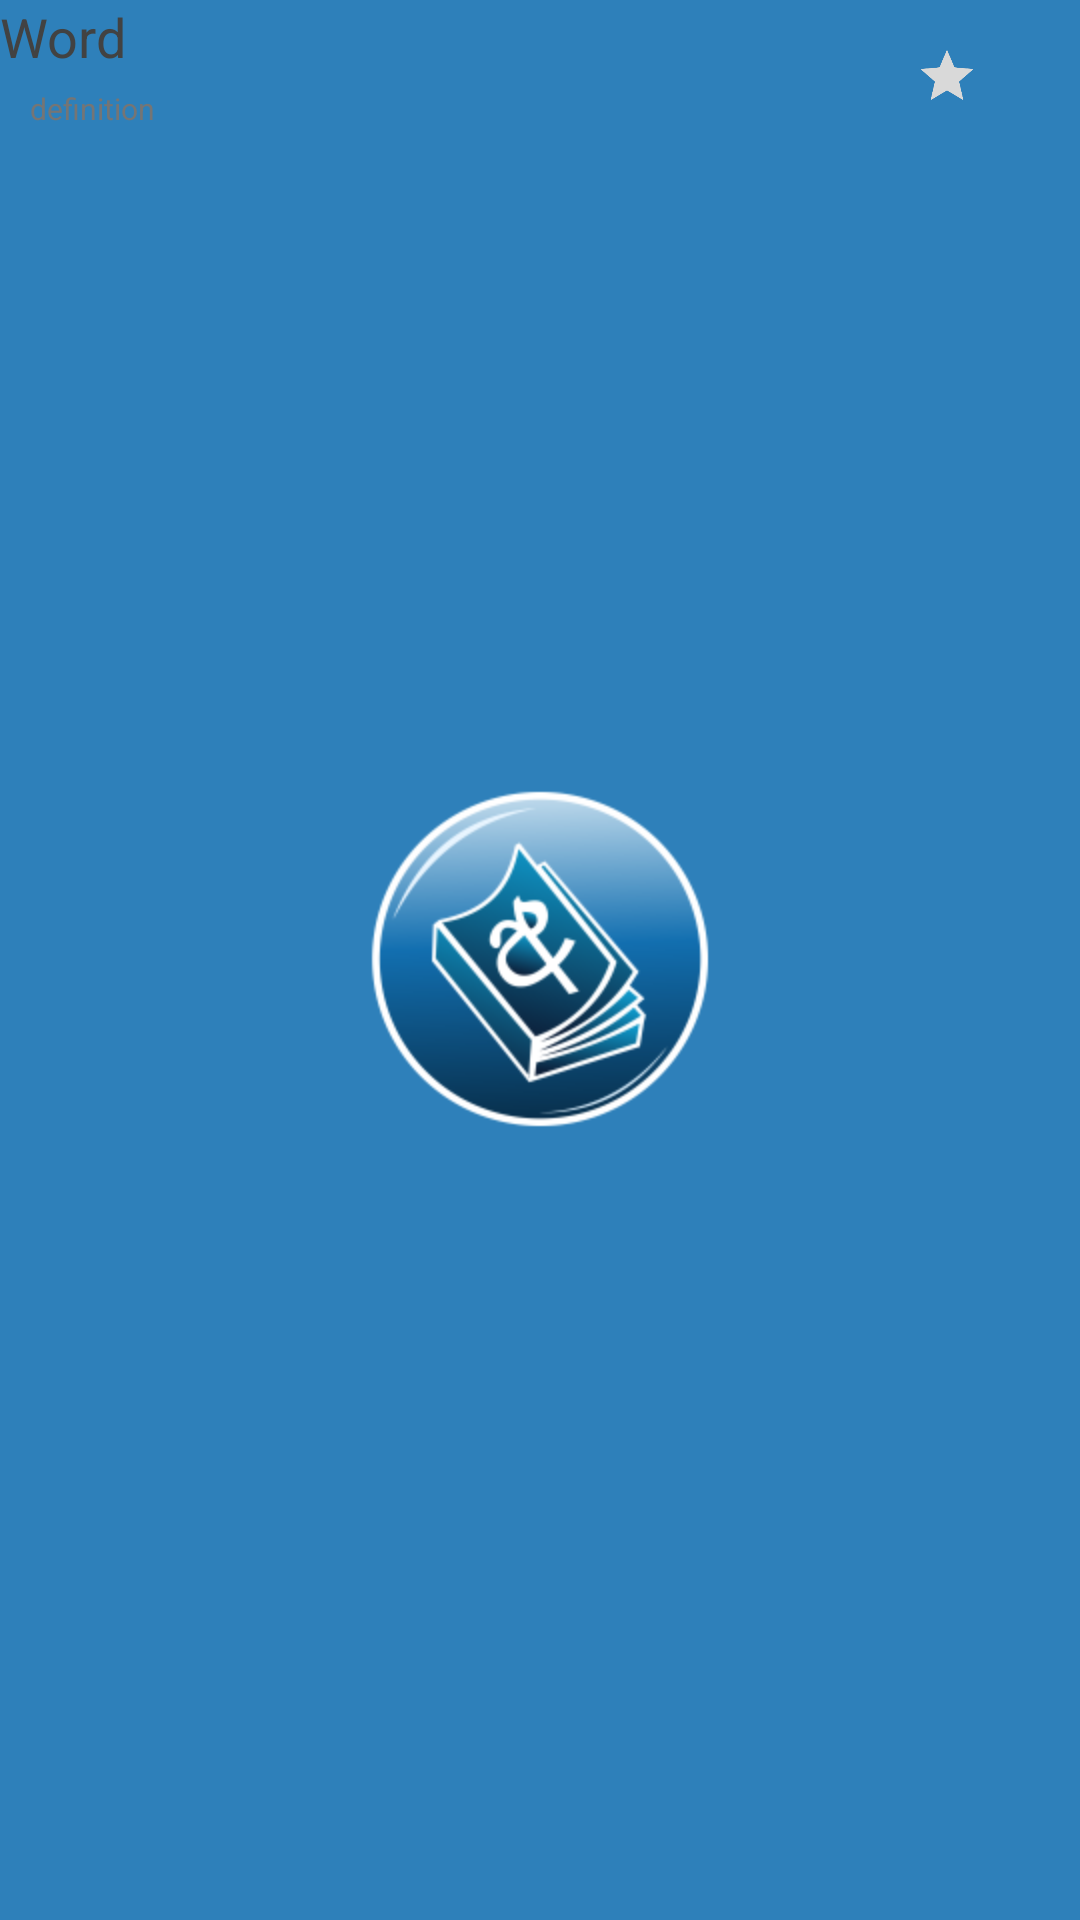

Icon click points for this 1080 x 1920 phone screenshot, format [x,y]:
fav off: [947,75]
